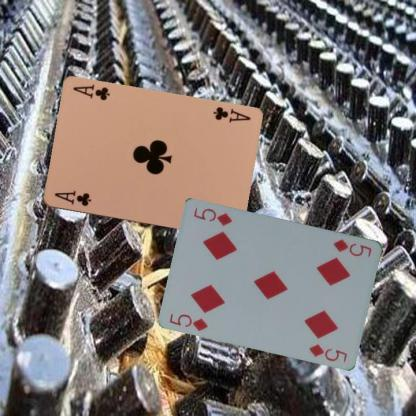5d: (167, 310, 210, 332), (331, 236, 373, 258)
Ac: (210, 104, 252, 124), (52, 188, 92, 207)
